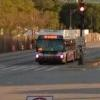Bus: (31, 30, 78, 64)
